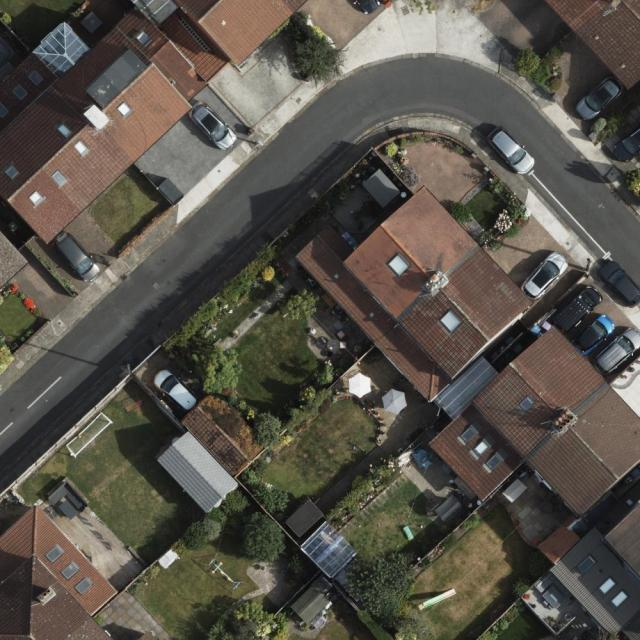roof: (295, 187, 640, 517), (0, 0, 311, 245), (0, 502, 120, 640), (157, 386, 272, 515), (537, 498, 640, 640), (543, 0, 640, 92), (0, 232, 29, 293)
skylight: (32, 22, 90, 79), (431, 304, 468, 338), (385, 252, 412, 281), (456, 422, 482, 446), (514, 390, 537, 415), (114, 99, 137, 122), (468, 437, 489, 461), (26, 188, 48, 210), (43, 543, 65, 564), (61, 558, 81, 579), (136, 30, 155, 52), (576, 554, 596, 574), (611, 587, 630, 608), (486, 451, 506, 470), (73, 576, 92, 595), (25, 68, 44, 87), (52, 168, 70, 187), (74, 142, 91, 161), (11, 84, 28, 103), (600, 575, 617, 593), (4, 165, 20, 181), (57, 123, 72, 138), (1, 101, 10, 120)
